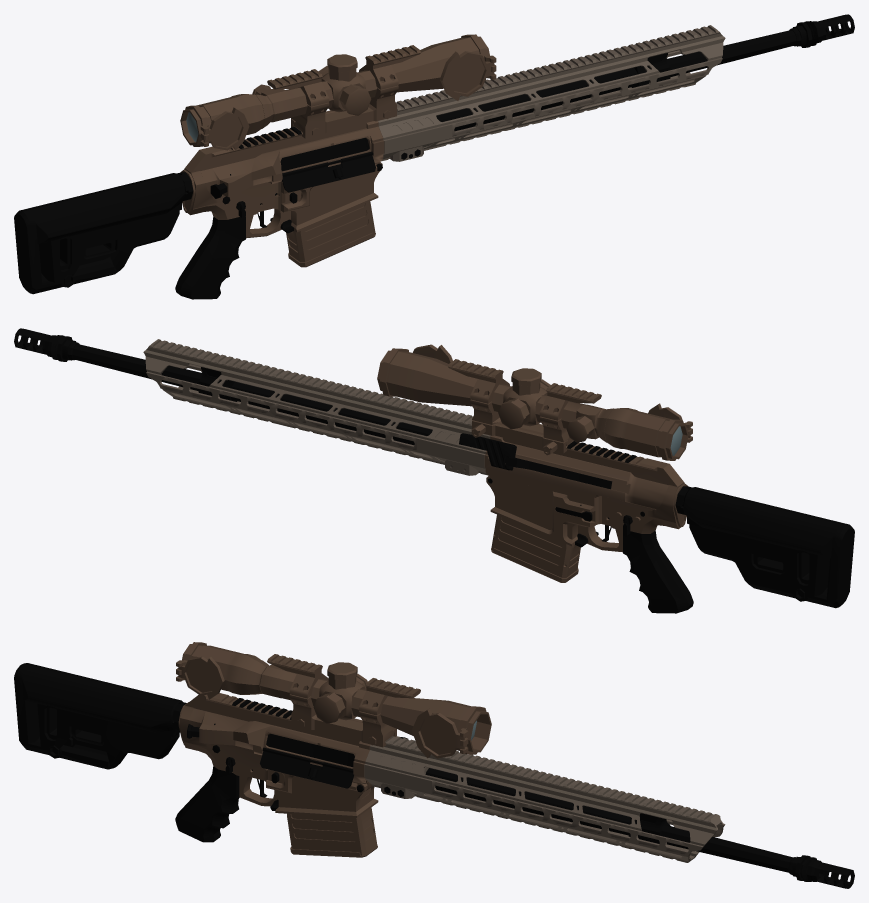
3 views of the same model, one above another, from view 1: azimuth 30°, elevation 25°; view 2: azimuth 150°, elevation 25°; view 3: azimuth 330°, elevation 25° (orthographic).
Parts seen in each view (by area): view 1: fx_tir, S&B PMII 12x50, MAGAZINE; view 2: fx_tir, S&B PMII 12x50, MAGAZINE; view 3: fx_tir, S&B PMII 12x50, MAGAZINE.
Part boxes in pixels (x1,y1,x2,y2): fx_tir: (14,14,854,299); S&B PMII 12x50: (180,34,496,150); MAGAZINE: (286,201,375,267); fx_tir: (14,328,854,613); S&B PMII 12x50: (377,344,692,460); MAGAZINE: (491,514,580,582); fx_tir: (14,663,854,888); S&B PMII 12x50: (176,642,491,758); MAGAZINE: (287,807,377,857).
Size of the model in its own units: 1 by 0.0679 by 0.2338.
Materials: 4 (4 with a texture image).
